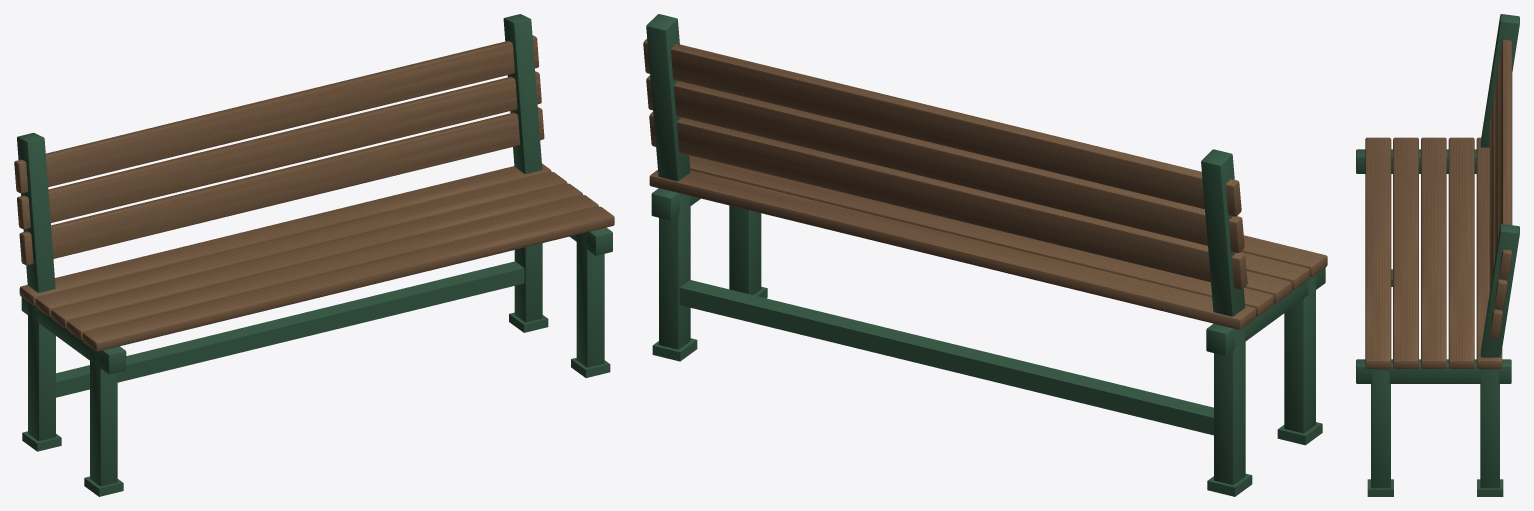
The model's file is bench_course.glb.
The picture shows the model from 3 angles, left to right: view 1: azimuth 30°, elevation 25°; view 2: azimuth 150°, elevation 25°; view 3: azimuth 270°, elevation 25°; orthographic projection. The views are drawn at different scales.
Visible parts, largest first — view 1: bench_course_body; view 2: bench_course_body; view 3: bench_course_body.
Boxes of the visible parts, x1,y1,x2,y2 form: bench_course_body: (14,14,614,496); bench_course_body: (643,14,1327,496); bench_course_body: (1356,14,1519,496).
Bounding box in the file's own units: 1.6 × 0.8813 × 0.4949.
Materials: 2 (1 with a texture image).
